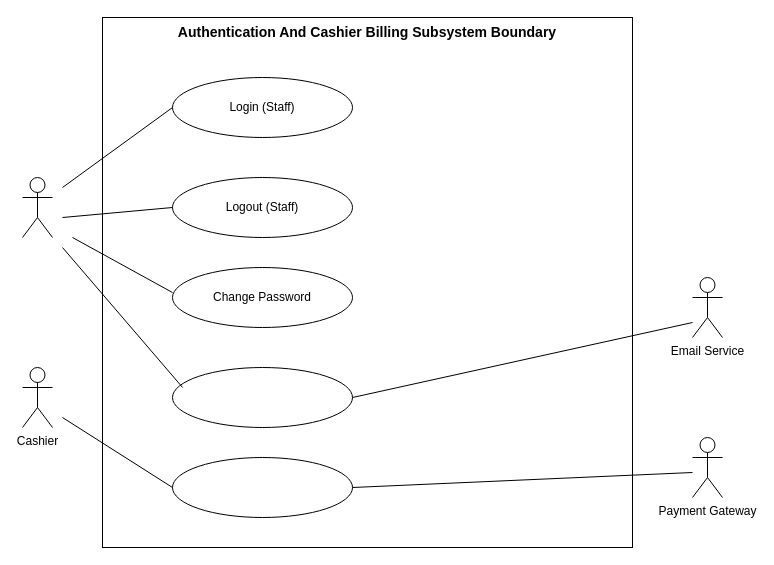
Some shapes in this 774 by 565 pixel diagram are drawn without their labels. Each missing label, with the centre of its shape:
Process Bill and Settle Payment: the point at 262,487
Reset Forgotten Password: the point at 262,397
Staff: the point at 37,207
